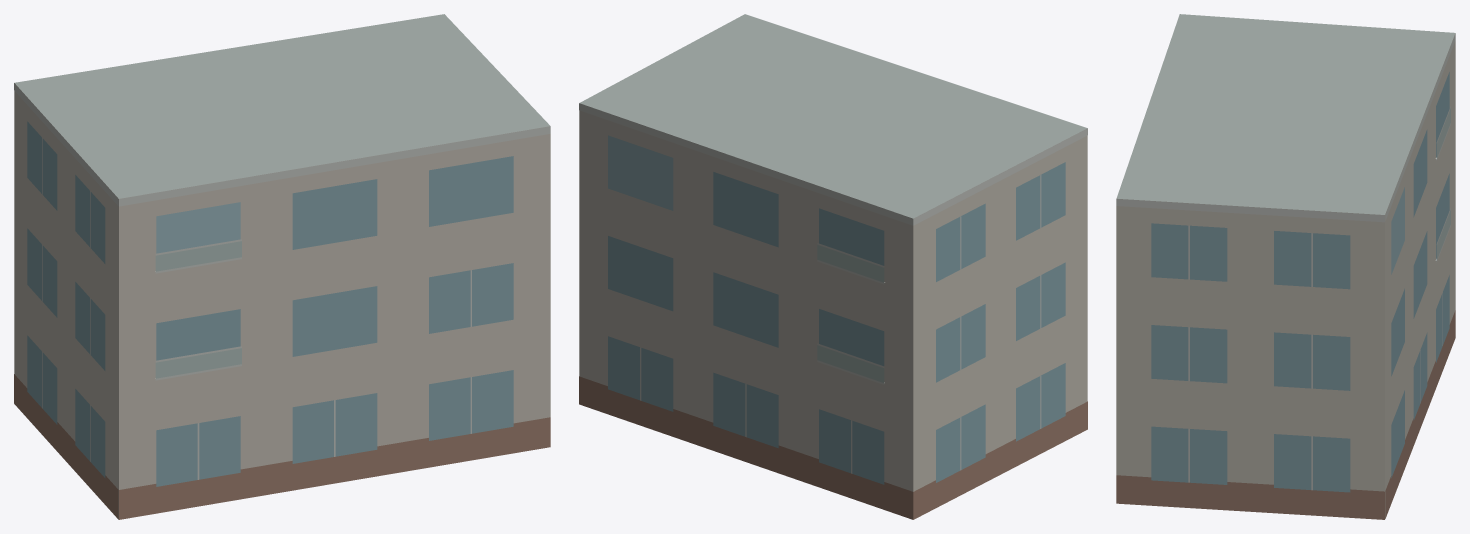
The model's file is survey-upis-32631028.glb.
The picture shows the model from 3 angles, left to right: view 1: azimuth 30°, elevation 25°; view 2: azimuth 150°, elevation 25°; view 3: azimuth 270°, elevation 25°; orthographic projection. The views are drawn at different scales.
Visible parts, largest first — view 1: survey-upis-32631028.tmp; view 2: survey-upis-32631028.tmp; view 3: survey-upis-32631028.tmp.
Part boxes in pixels (bbox=[...]): survey-upis-32631028.tmp: bbox=[14, 14, 550, 519]; survey-upis-32631028.tmp: bbox=[579, 14, 1087, 519]; survey-upis-32631028.tmp: bbox=[1116, 14, 1455, 519].
Size of the model in its own units: 14.44 by 10.2 by 10.3.
